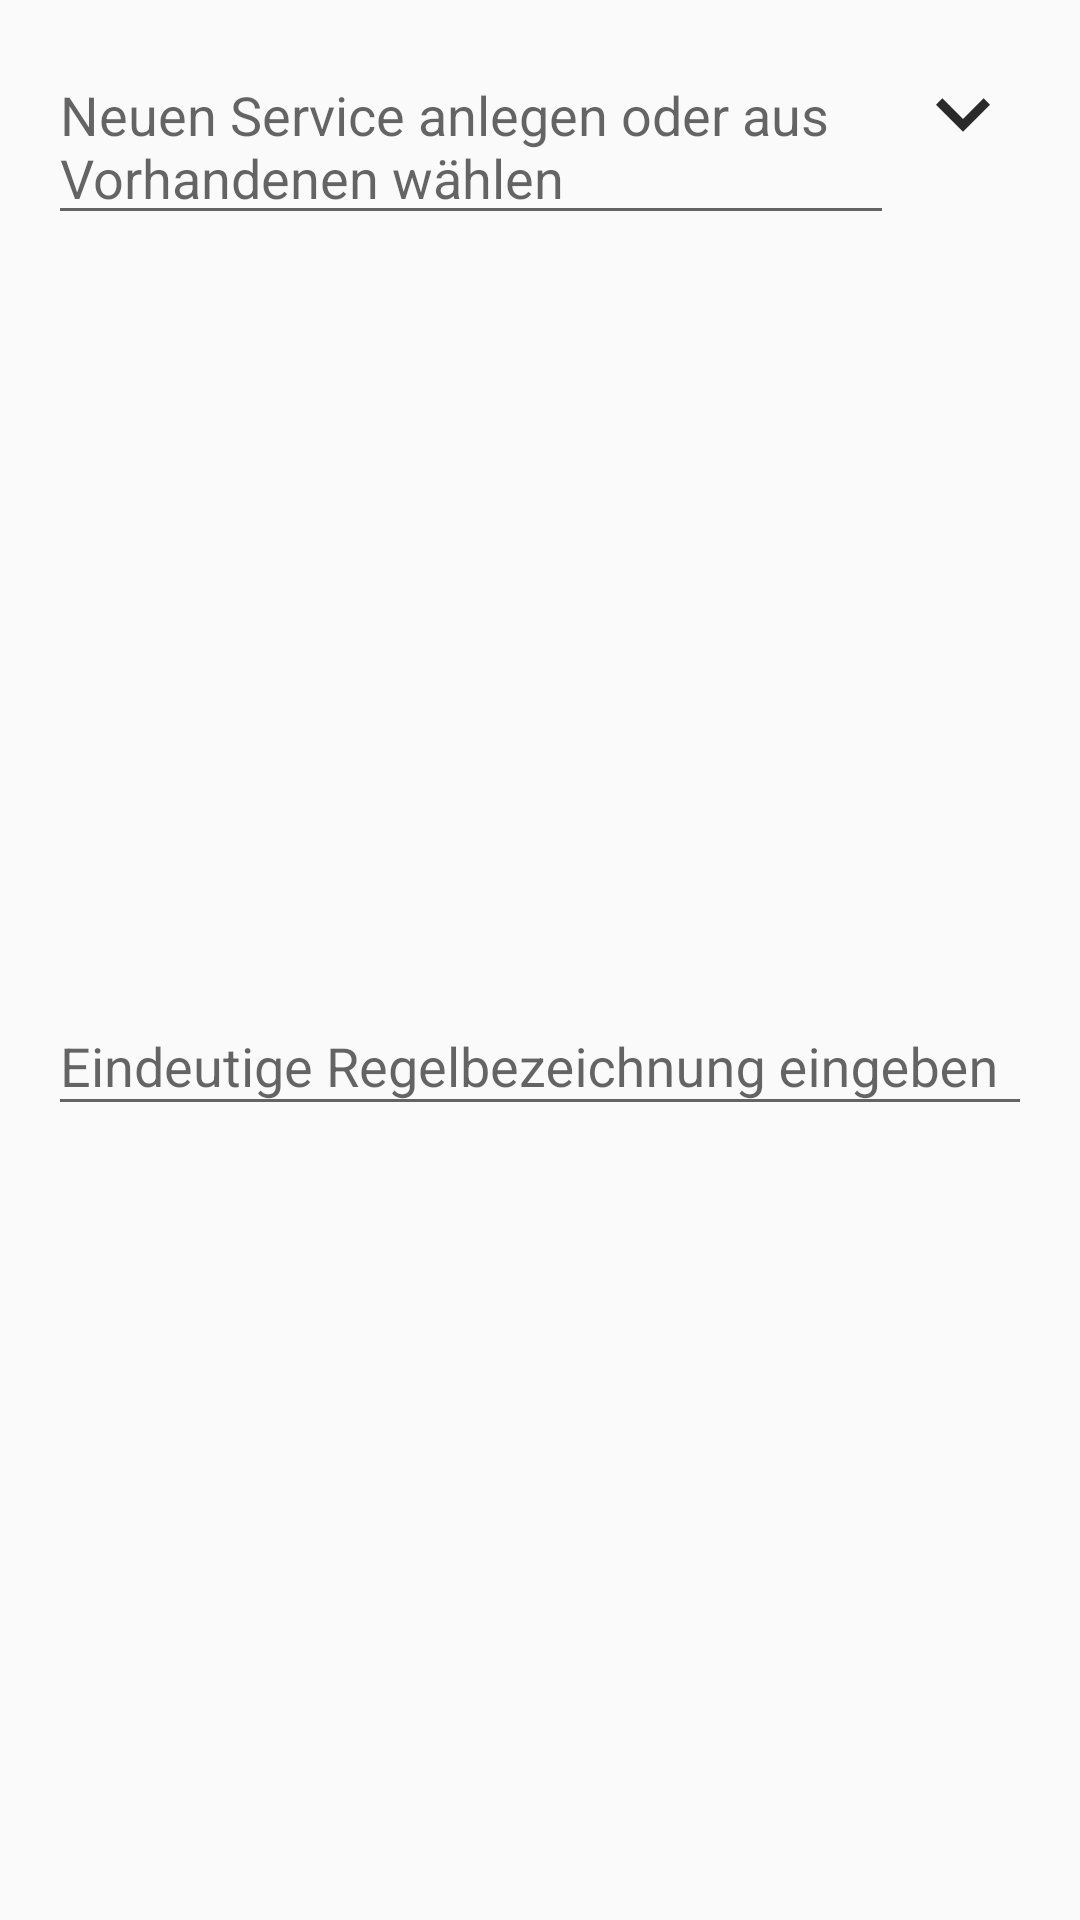

Screen size 1080*1920. Icon name, then its center in pixels as [x,y]:
Zeige Optionen: [963,115]
